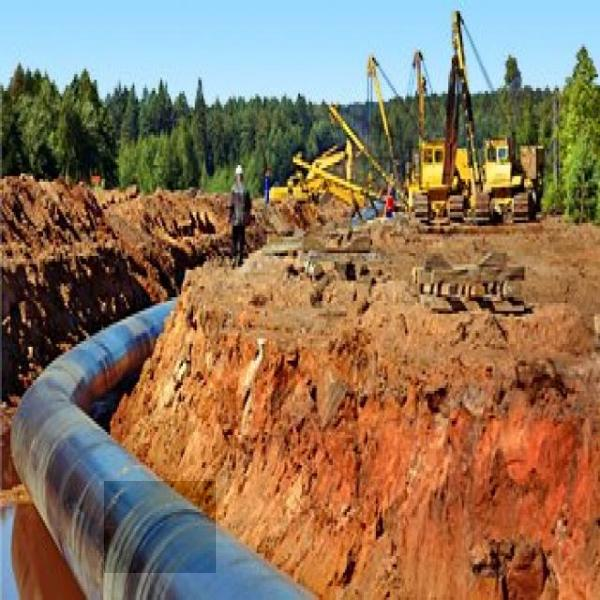water: (104, 481, 216, 573)
